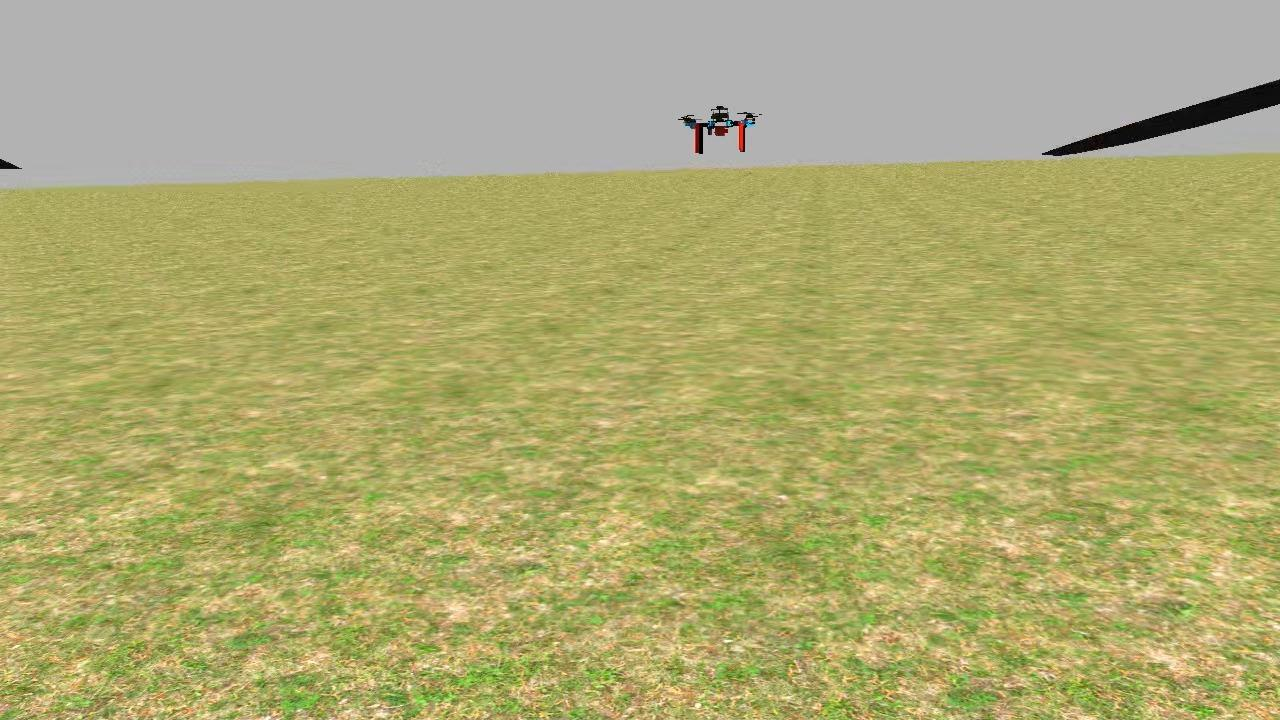UAV: (666, 90, 775, 159)
